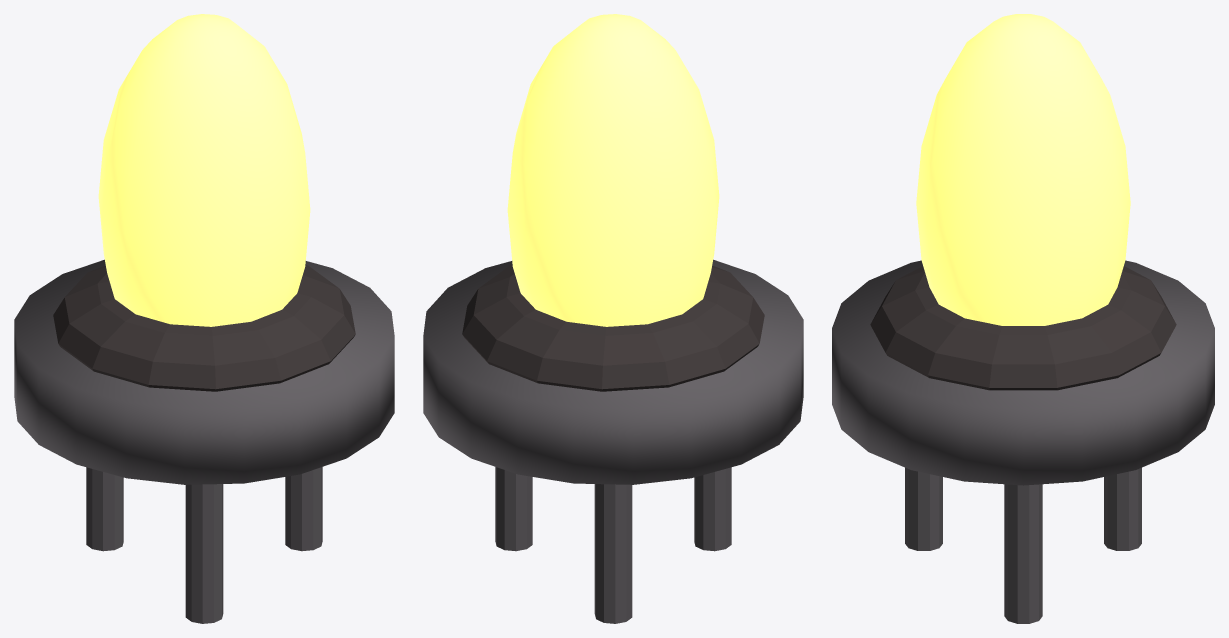
Rendered from brazier.glb.
3 views of the same model, side by side, from view 1: azimuth 30°, elevation 25°; view 2: azimuth 150°, elevation 25°; view 3: azimuth 270°, elevation 25° (orthographic).
Visible parts, largest first — view 1: BrazierUnlit, BrazierLit; view 2: BrazierUnlit, BrazierLit; view 3: BrazierUnlit, BrazierLit.
Boxes of the visible parts, box(x1,y1,x2,y2) form: BrazierUnlit: box(14, 259, 394, 623); BrazierLit: box(98, 14, 310, 326); BrazierUnlit: box(423, 259, 803, 623); BrazierLit: box(507, 14, 719, 326); BrazierUnlit: box(832, 260, 1214, 623); BrazierLit: box(916, 14, 1130, 325).
Bounding box in the file's own units: 1 × 1.58 × 1.
